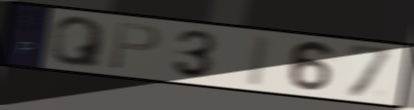3: (169, 29, 219, 80)
6: (287, 39, 336, 94)
7: (346, 42, 397, 101)
I: (243, 33, 274, 89)
P: (107, 20, 164, 72)
Q: (48, 15, 109, 70)
